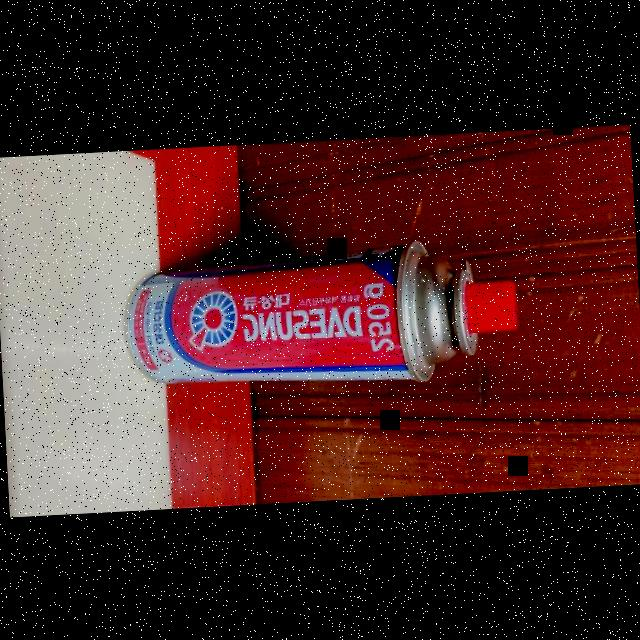chemical_spray_can: (109, 227, 541, 412)
